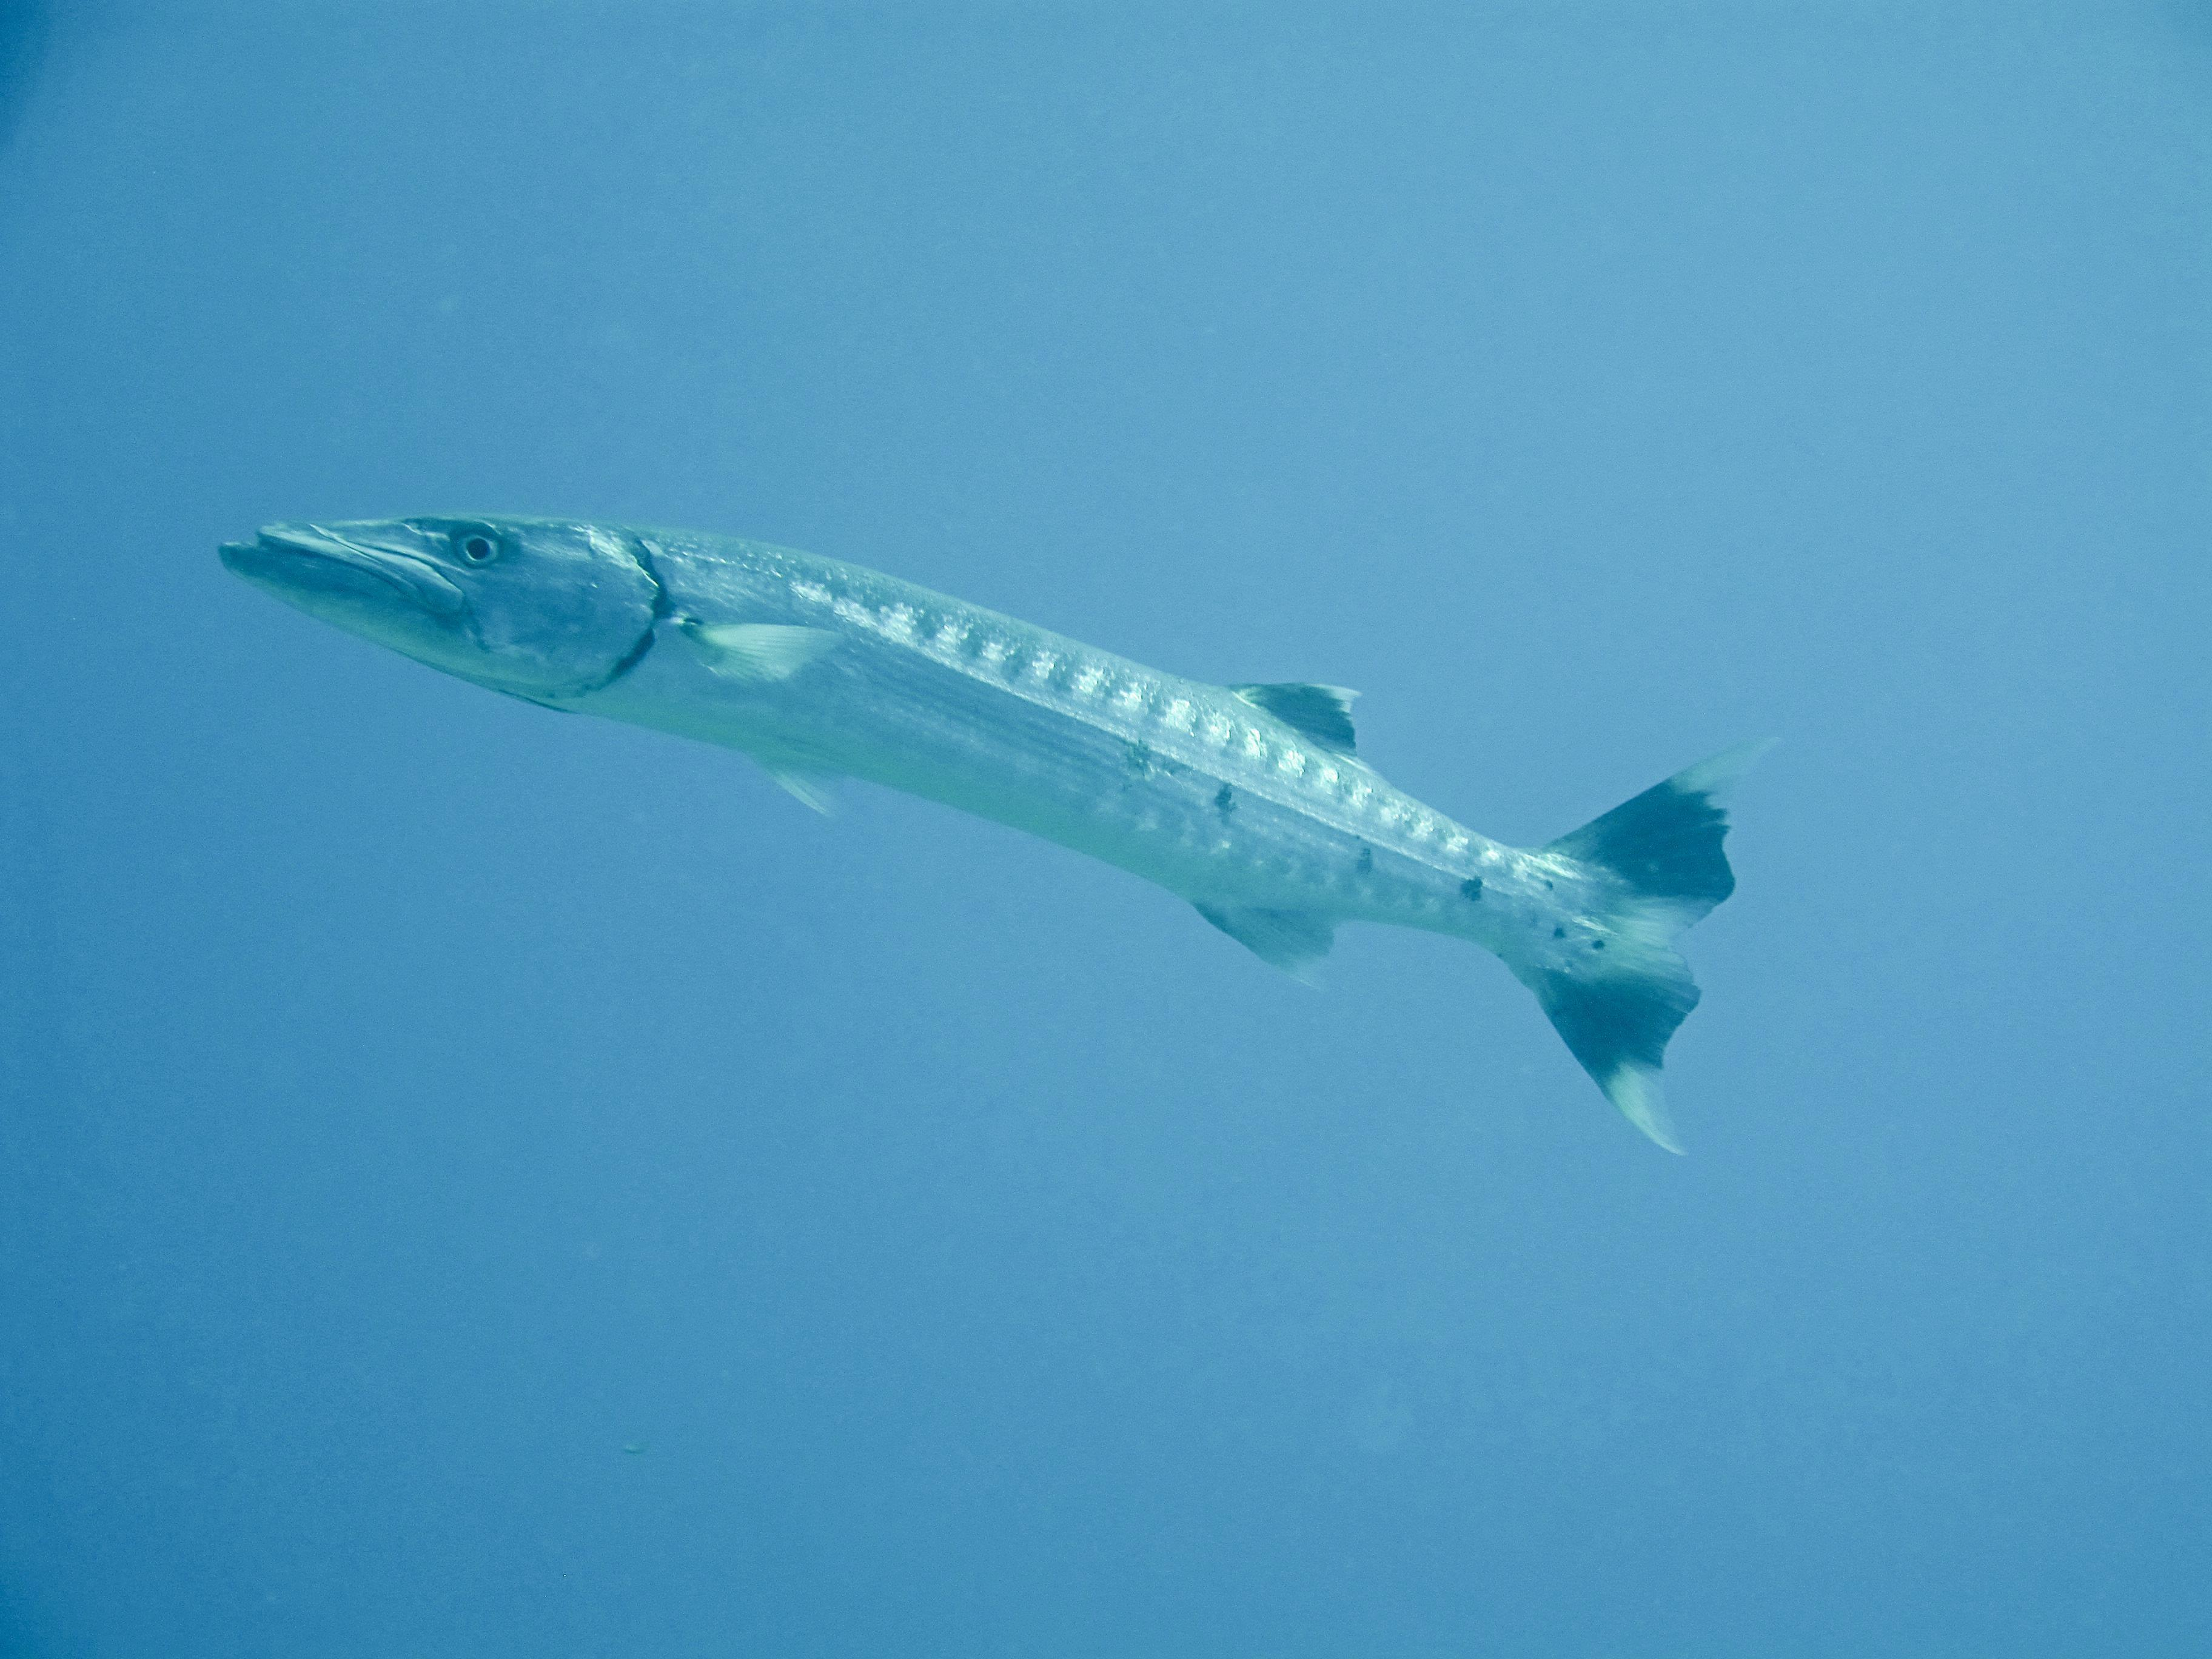Fish: (209, 476, 1811, 1202)
